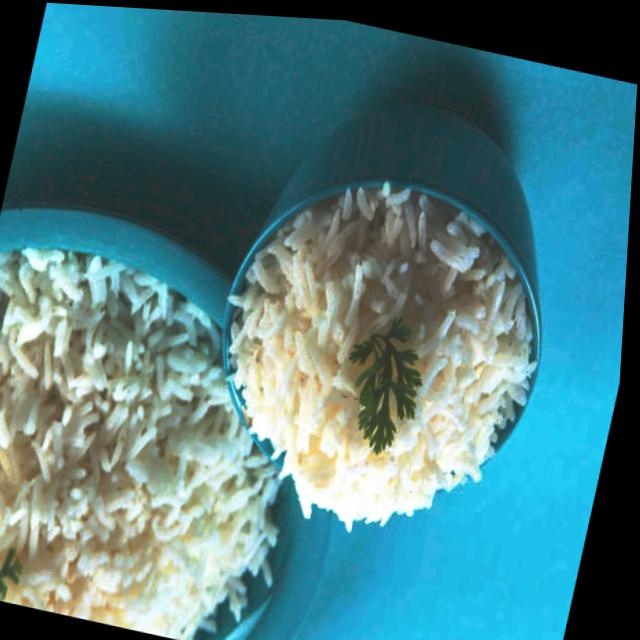rice: (179, 149, 572, 566), (0, 230, 337, 640)
